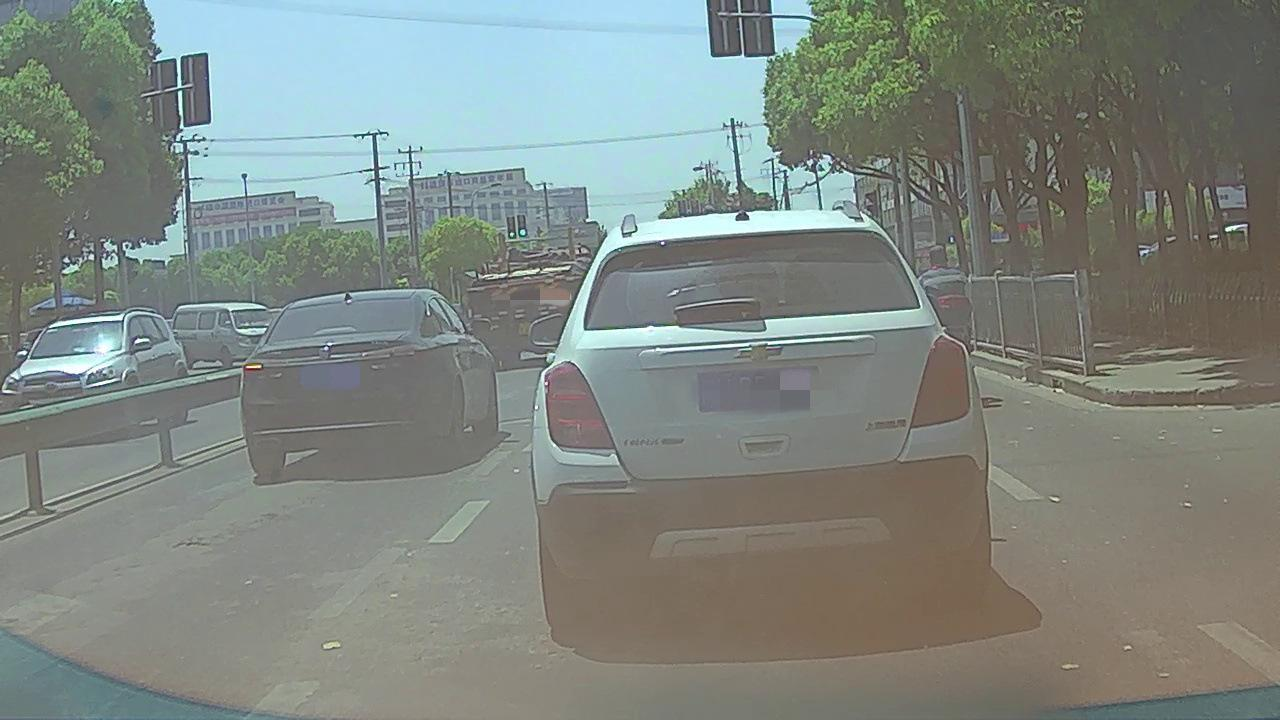traffic_light: (516, 214, 527, 236), (506, 217, 516, 238)
